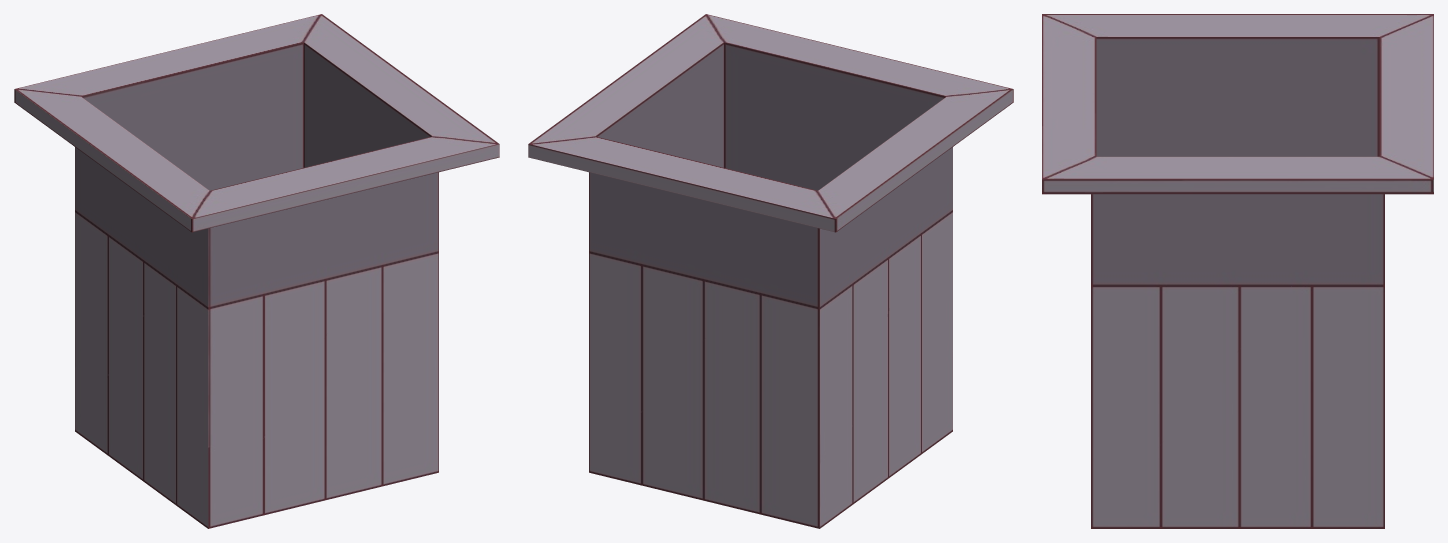
Rendered from wastebasket.fbx.
3 views of the same model, side by side, from view 1: azimuth 30°, elevation 25°; view 2: azimuth 150°, elevation 25°; view 3: azimuth 270°, elevation 25° (orthographic). The views are drawn at different scales.
Visible parts, largest first — view 1: Box001; view 2: Box001; view 3: Box001.
Part boxes in pixels (x1,y1,x2,y2): Box001: [14, 14, 499, 528]; Box001: [528, 14, 1013, 528]; Box001: [1042, 14, 1433, 528].
Size of the model in its own units: 160 by 167 by 160.
